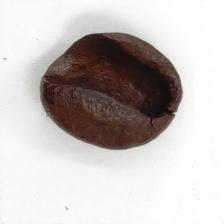NG: (42, 31, 133, 115), (127, 43, 184, 125)
